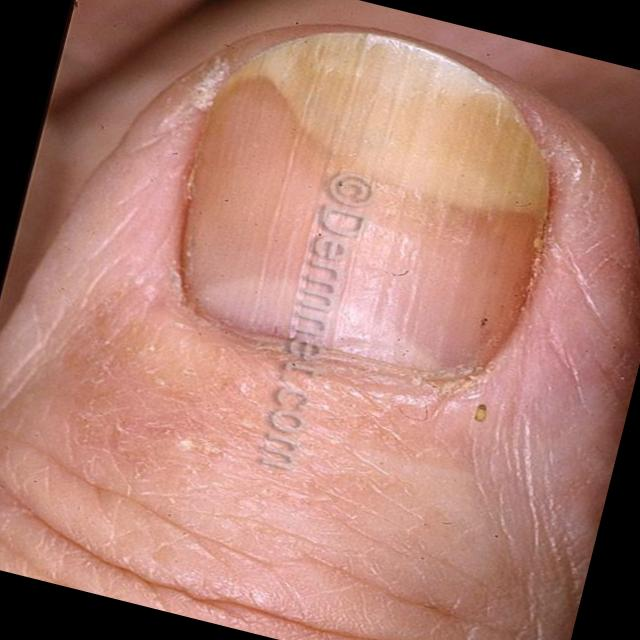Nail: (180, 35, 550, 372)
